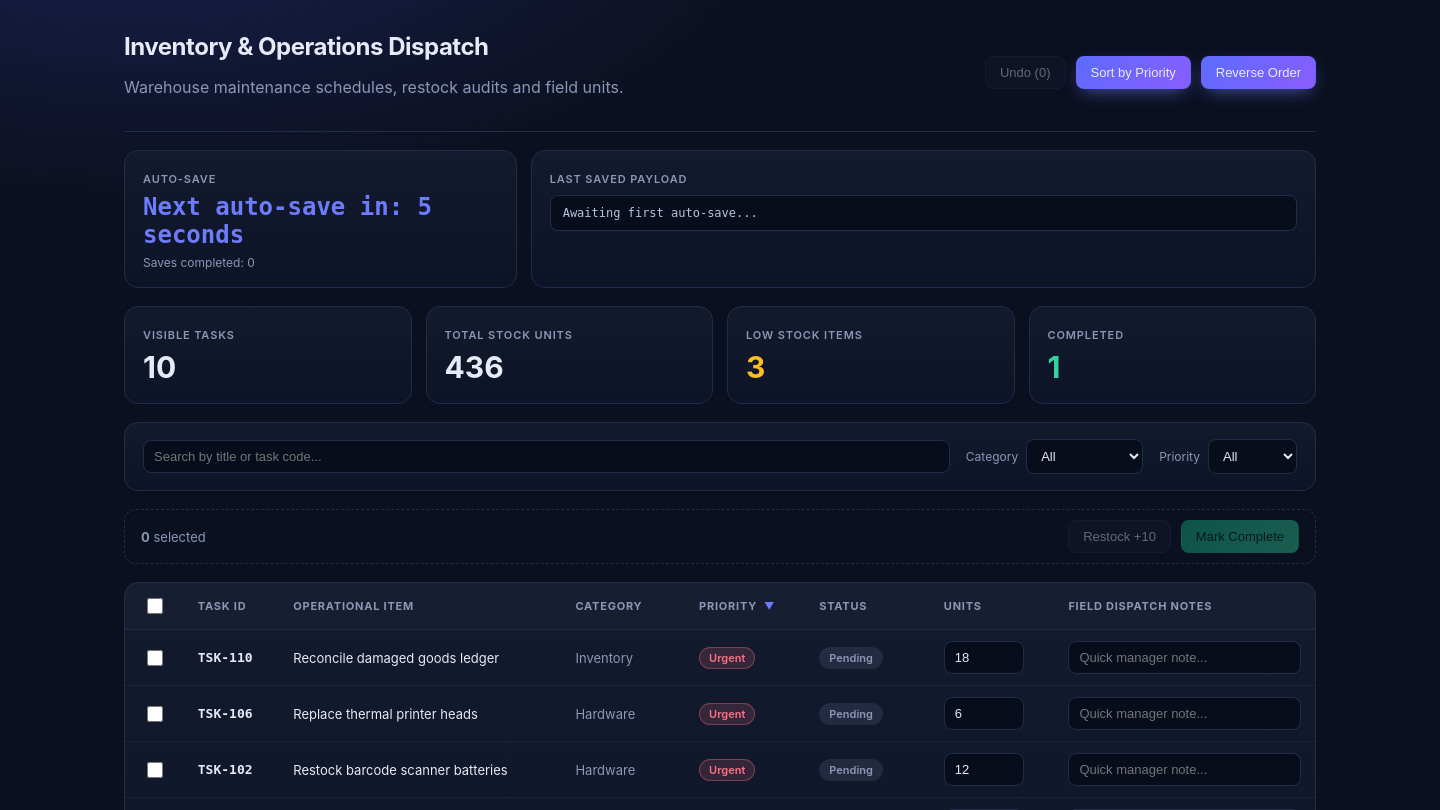
Search Correctness & Race Condition Prevention › prevents older slow search responses from overwriting newer fast results
The width and height of the screenshot is (1440, 810).
// Type "A" (which takes 1800ms) then immediately type "Au" (which takes 250ms)
Type "A" into the field with placeholder "Search by title or task code..." at (546, 456), box [143,440,950,473]
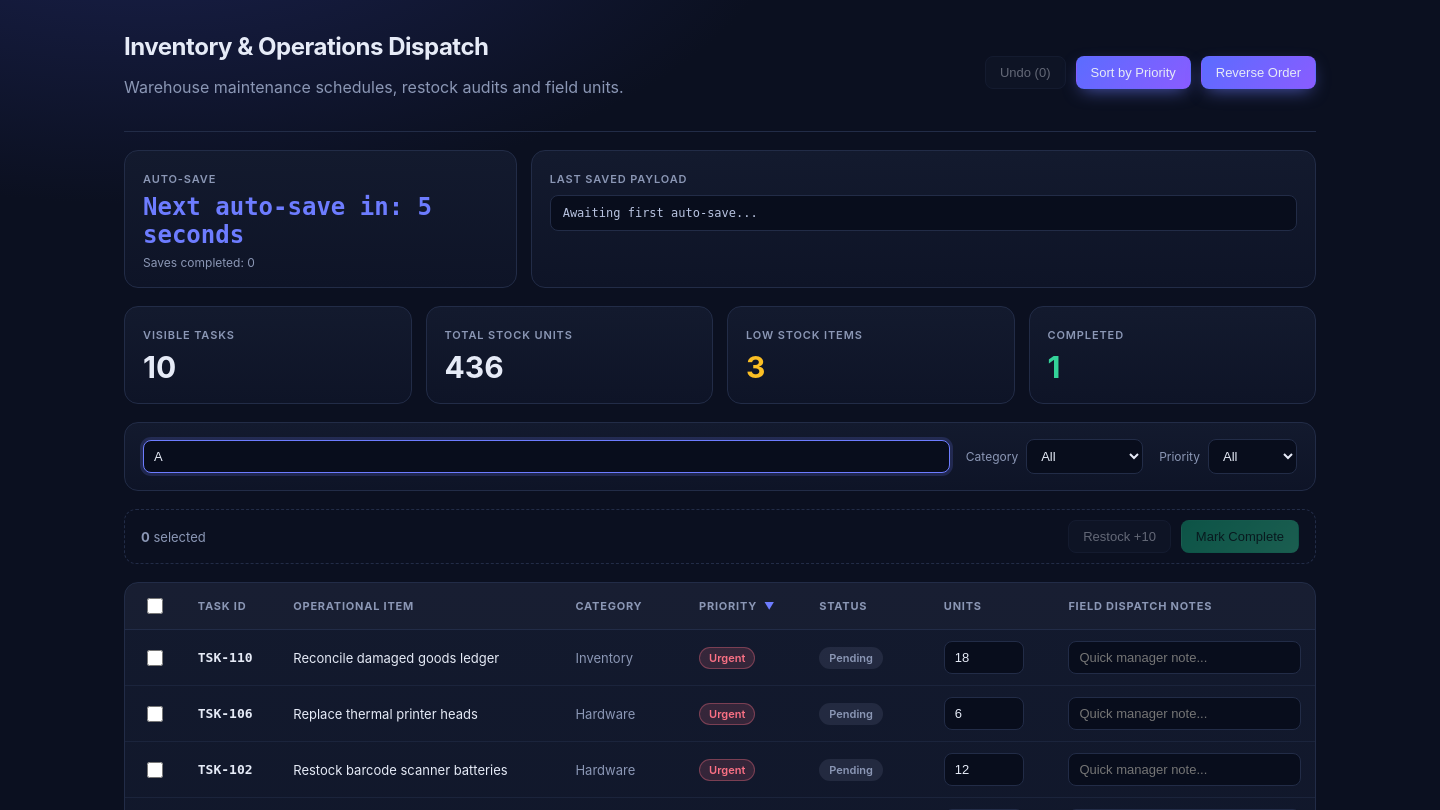
Type "u" into the field with placeholder "Search by title or task code..." at (546, 456), box [143,440,950,473]
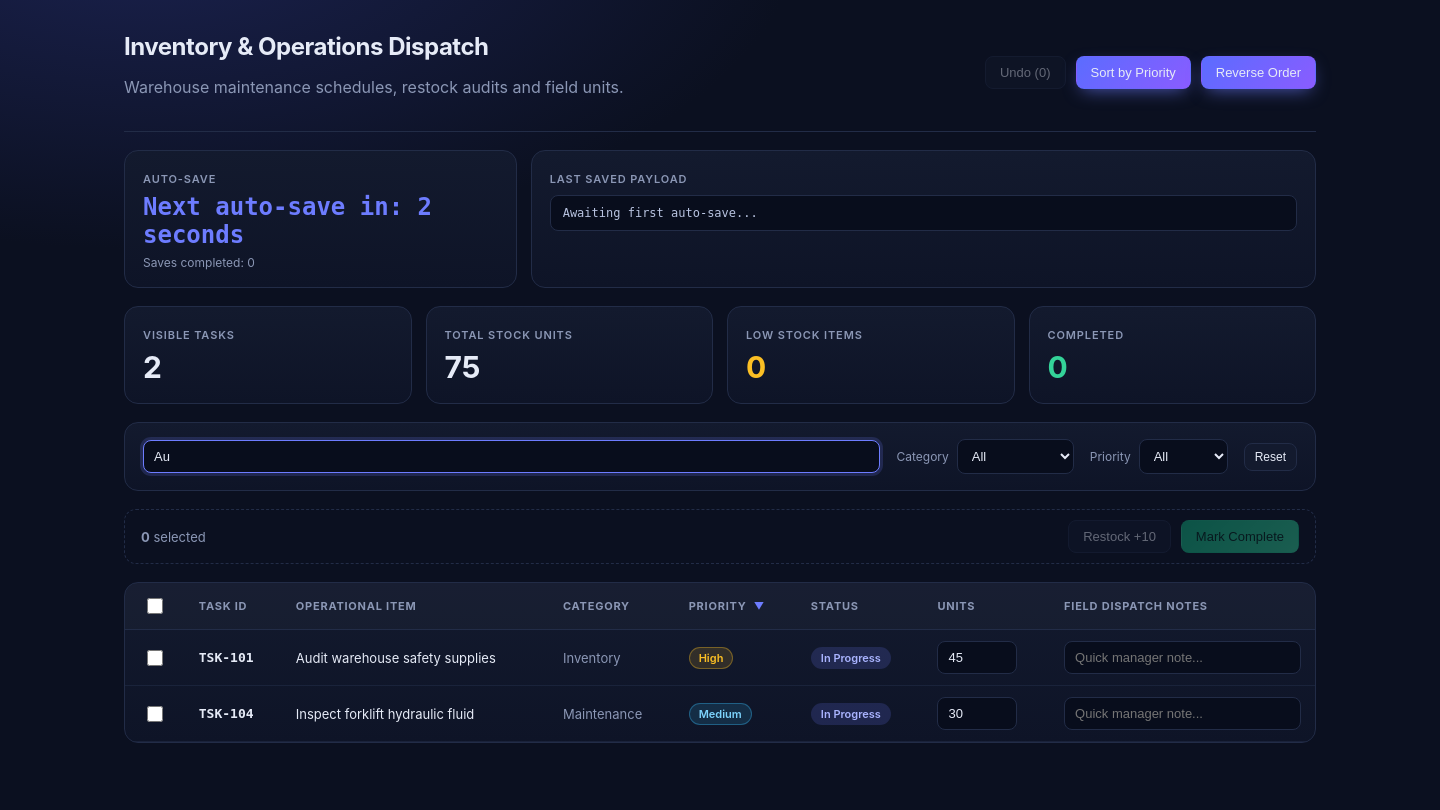
Expected: the text "TSK-101" is shown, [185,630,282,686]
Expected: the text "TSK-102" is gone
